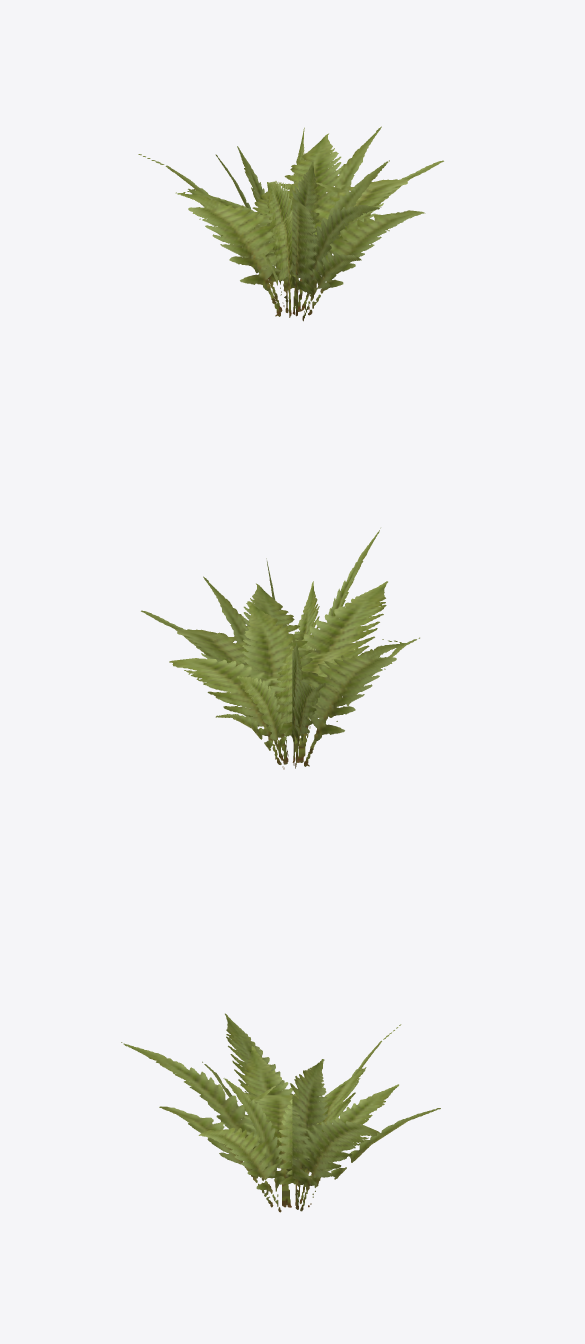
The model's file is fern_small_a_lod3_cross.gltf.
3 renders of one model, top to bottom at view 1: azimuth 30°, elevation 25°; view 2: azimuth 150°, elevation 25°; view 3: azimuth 270°, elevation 25°, orthographic. The views are drawn at different scales.
Visible parts, largest first — view 1: fern_small_a_LOD3; view 2: fern_small_a_LOD3; view 3: fern_small_a_LOD3.
Boxes of the visible parts, x1,y1,x2,y2 form: fern_small_a_LOD3: (138,126,443,321); fern_small_a_LOD3: (141,528,419,769); fern_small_a_LOD3: (121,1013,440,1212).
Bounding box in the file's own units: 0.8514 × 0.3034 × 0.8514.
1 material, 1 textured.
